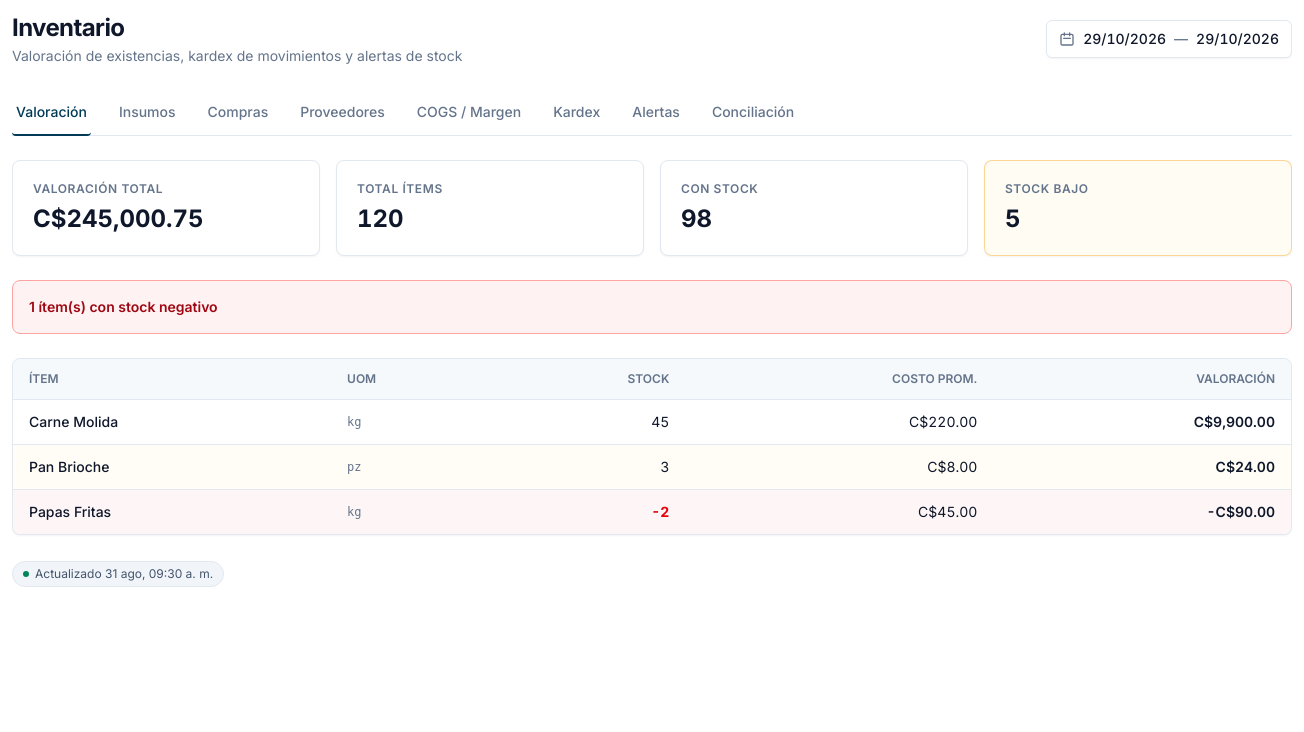
it: W3 — InventoryPage › switches to kardex tab with movement type filters
The image size is (1304, 732).
Click the tab "Kardex".
click(577, 113)  # box [549,90,604,136]
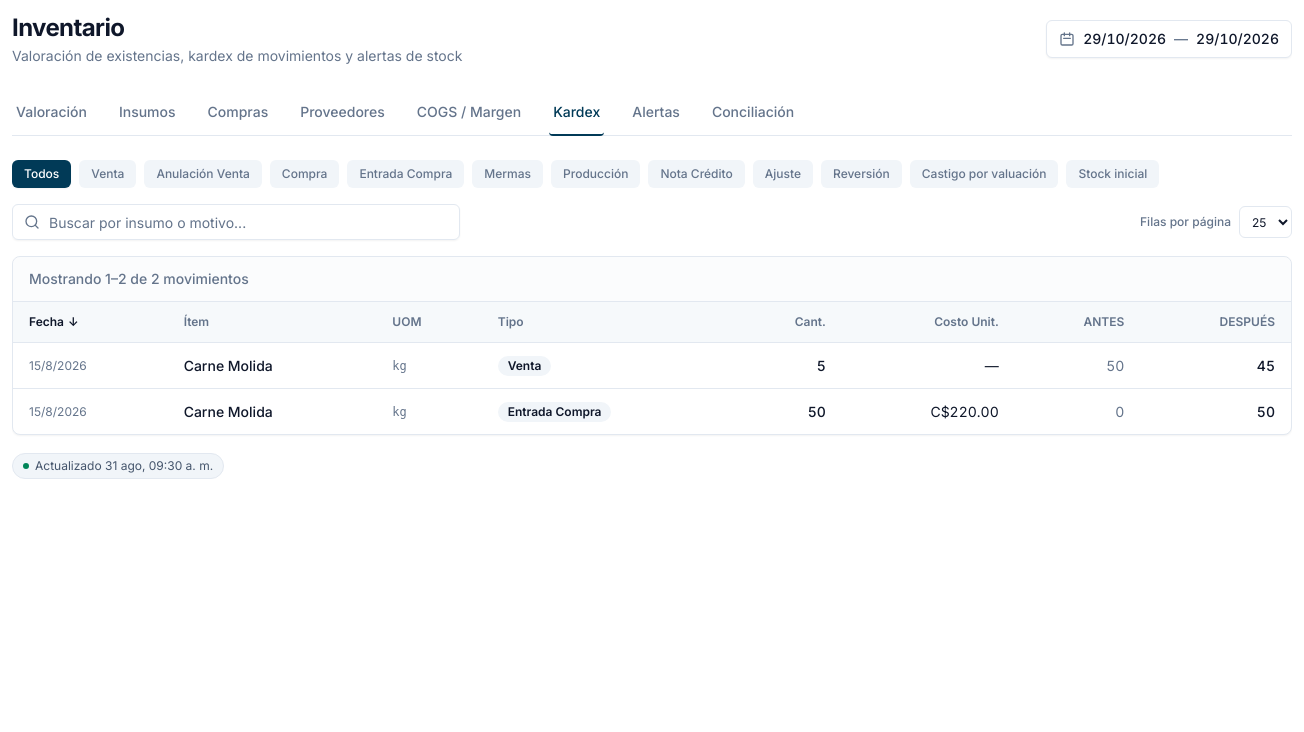
expect the button "Todos" is shown: met, box [12,160,71,188]
expect the button "Ajuste" is shown: met, box [753,160,813,188]
expect the text "Mostrando 1–2 de 2 movimientos" is shown: met, box [29,269,249,289]
